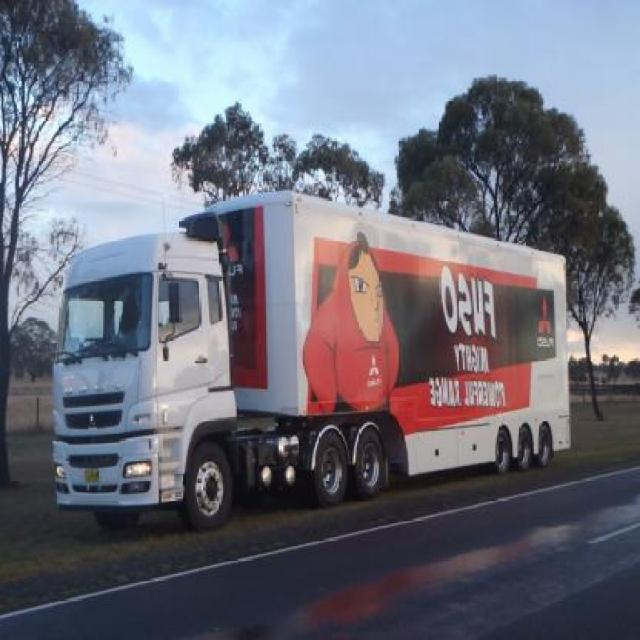truck: (55, 188, 569, 532)
